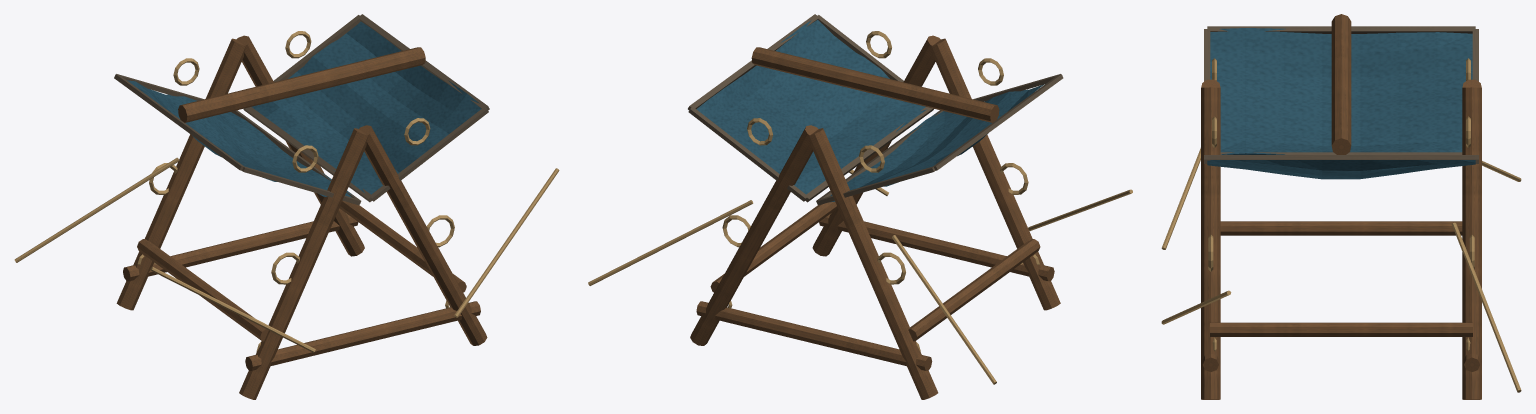
The model's file is cs-003_shelter_covered_usable.obj.
3 views of the same model, side by side, from view 1: azimuth 30°, elevation 25°; view 2: azimuth 150°, elevation 25°; view 3: azimuth 270°, elevation 25° (orthographic). The views are drawn at different scales.
Parts seen in each view (by area): view 1: cs-003_shelter_covered_usable; view 2: cs-003_shelter_covered_usable; view 3: cs-003_shelter_covered_usable.
Boxes of the visible parts, bbox=[...] form: cs-003_shelter_covered_usable: bbox=[14, 14, 559, 399]; cs-003_shelter_covered_usable: bbox=[588, 14, 1132, 399]; cs-003_shelter_covered_usable: bbox=[1161, 14, 1521, 399].
Bounding box in the file's own units: 2.77 × 1.63 × 1.98.
4 materials, 4 textured.
